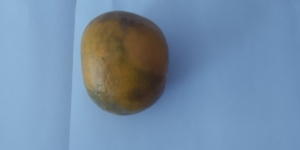BAD: (80, 11, 172, 117)
